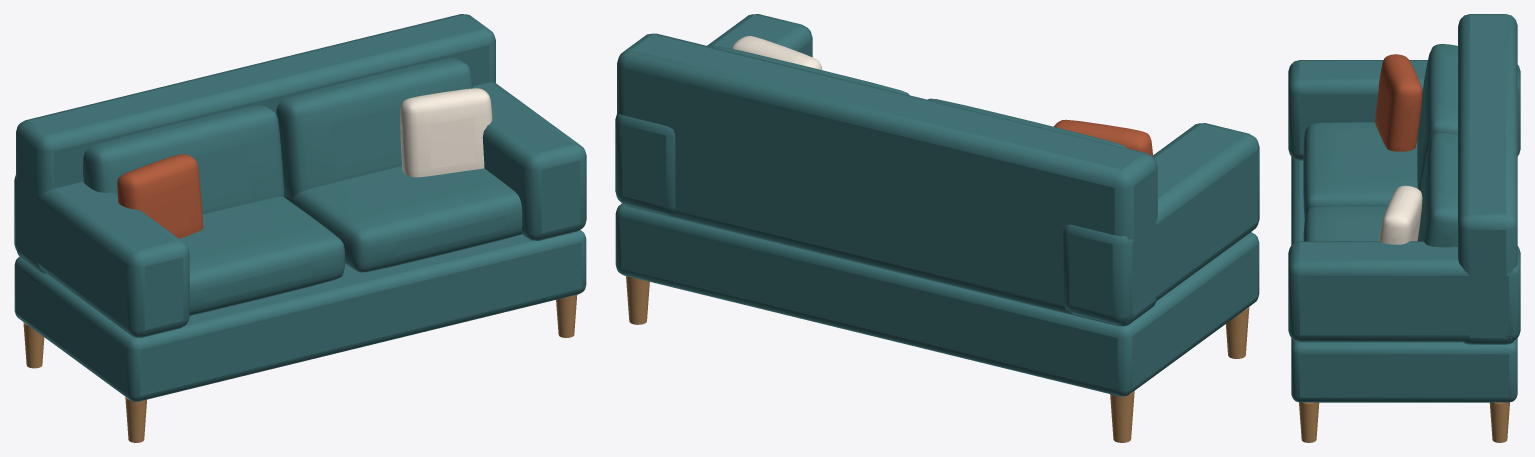
File: second.gltf
The picture shows the model from 3 angles, left to right: view 1: azimuth 30°, elevation 25°; view 2: azimuth 150°, elevation 25°; view 3: azimuth 270°, elevation 25°; orthographic projection. The views are drawn at different scales.
Parts seen in each view (by area): view 1: base, backrest, arm_-1, seat_cushion_+1, back_cushion_+1, seat_cushion_-1, back_cushion_-1, arm_+1, pillow_ivory, pillow_rust, leg_-1_-1, leg_+1_-1 (+1 smaller); view 2: backrest, base, arm_-1, arm_+1, pillow_rust, pillow_ivory, leg_-1_+1, leg_+1_+1, leg_-1_-1, back_cushion_+1, back_cushion_-1; view 3: arm_+1, backrest, base, seat_cushion_-1, arm_-1, back_cushion_+1, pillow_rust, back_cushion_-1, seat_cushion_+1, pillow_ivory, leg_+1_+1, leg_+1_-1.
Boxes of the visible parts, x1,y1,x2,y2 form: base: (14,230,586,401); backrest: (16,14,495,273); arm_-1: (14,175,189,337); seat_cushion_+1: (284,166,522,272); back_cushion_+1: (276,58,472,197); seat_cushion_-1: (180,196,345,315); back_cushion_-1: (83,105,284,214); arm_+1: (473,82,586,240); pillow_ivory: (400,88,492,177); pillow_rust: (117,154,203,238); leg_-1_-1: (125,397,146,442); leg_+1_-1: (556,294,577,337); backrest: (617,33,1157,326); base: (615,203,1259,396); arm_-1: (1063,123,1259,324); arm_+1: (615,14,812,215); pillow_rust: (1054,119,1153,156); pillow_ivory: (732,36,822,69); leg_-1_+1: (1110,391,1134,442); leg_+1_+1: (626,276,649,324); leg_-1_-1: (1225,307,1249,358); back_cushion_+1: (710,45,909,95); back_cushion_-1: (928,98,1126,148); arm_+1: (1288,241,1520,342); backrest: (1458,14,1517,344); base: (1291,157,1517,402); seat_cushion_-1: (1303,122,1417,218); arm_-1: (1288,60,1520,160); back_cushion_+1: (1417,132,1457,247); pillow_rust: (1375,54,1422,151); back_cushion_-1: (1417,44,1457,190); seat_cushion_+1: (1303,205,1387,241); pillow_ivory: (1379,185,1422,244); leg_+1_+1: (1489,402,1509,442); leg_+1_-1: (1299,402,1319,442).
Size of the model in its own units: 1.66 by 0.84 by 0.78.
